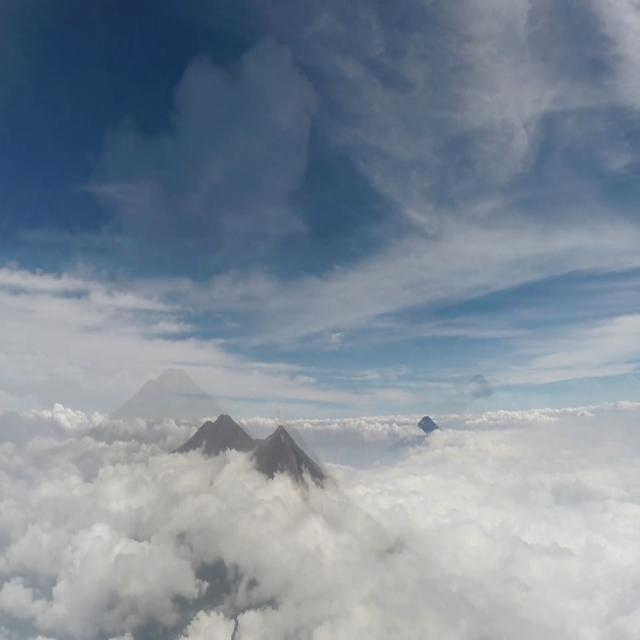Summit: (258, 424, 298, 440)
